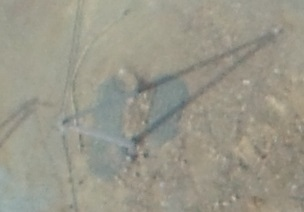opora: (55, 73, 172, 151)
